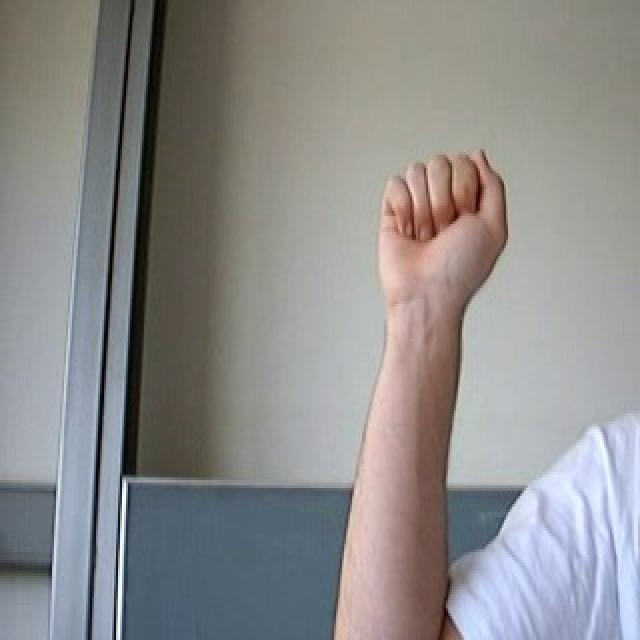A: (372, 132, 516, 321)
